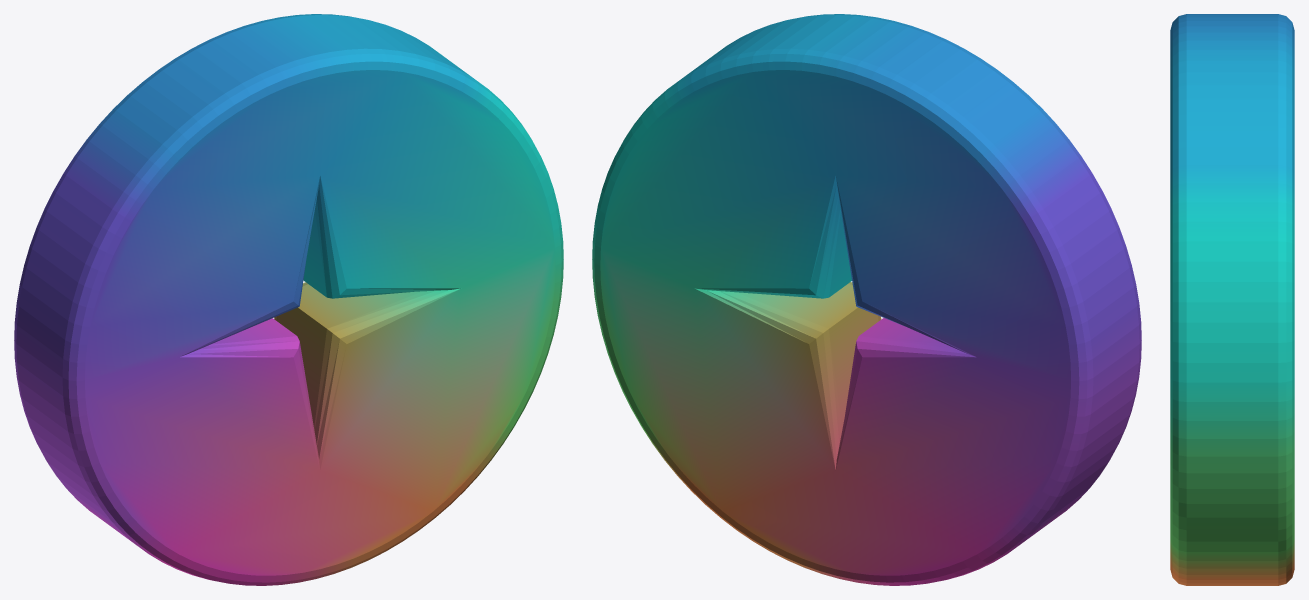
Rendered from token-04-circle-sparkle.glb.
3 renders of one model, left to right at view 1: azimuth 30°, elevation 25°; view 2: azimuth 150°, elevation 25°; view 3: azimuth 270°, elevation 25°, orthographic.
Parts seen in each view (by area): view 1: circle-sparkle; view 2: circle-sparkle; view 3: circle-sparkle.
Part boxes in pixels (bbox=[...]): circle-sparkle: bbox=[14, 14, 563, 585]; circle-sparkle: bbox=[592, 14, 1141, 585]; circle-sparkle: bbox=[1170, 14, 1294, 585].
Size of the model in its own units: 2 by 2 by 0.4339.
